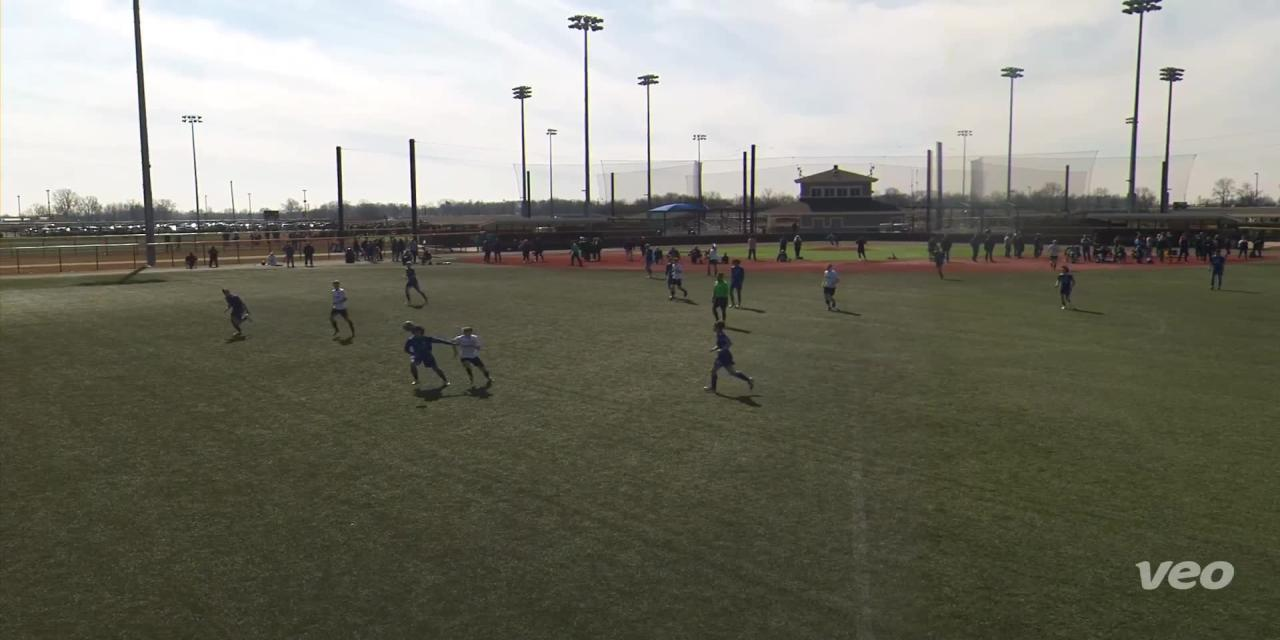sports ball: (397, 312, 418, 334)
